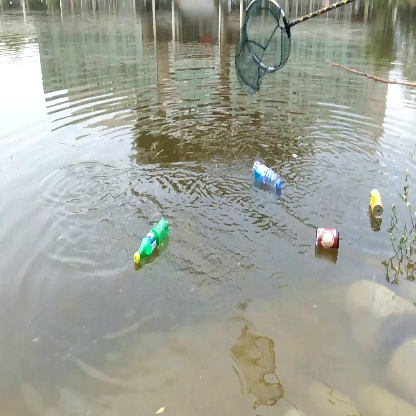bottle: (133, 216, 171, 270), (250, 161, 283, 193), (315, 224, 340, 253), (367, 186, 385, 221)
